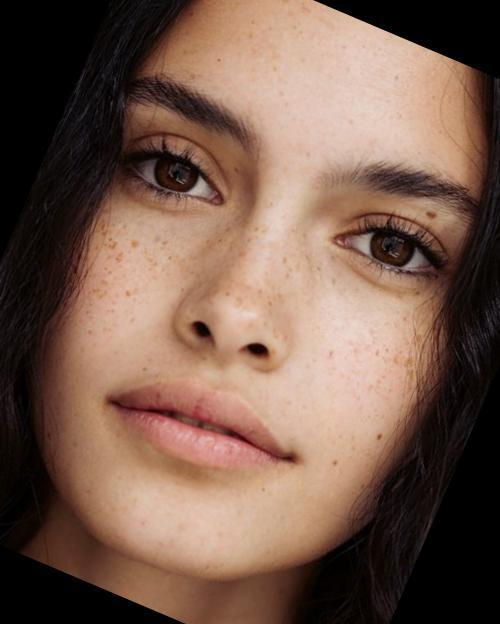Sober: (88, 52, 459, 513)
